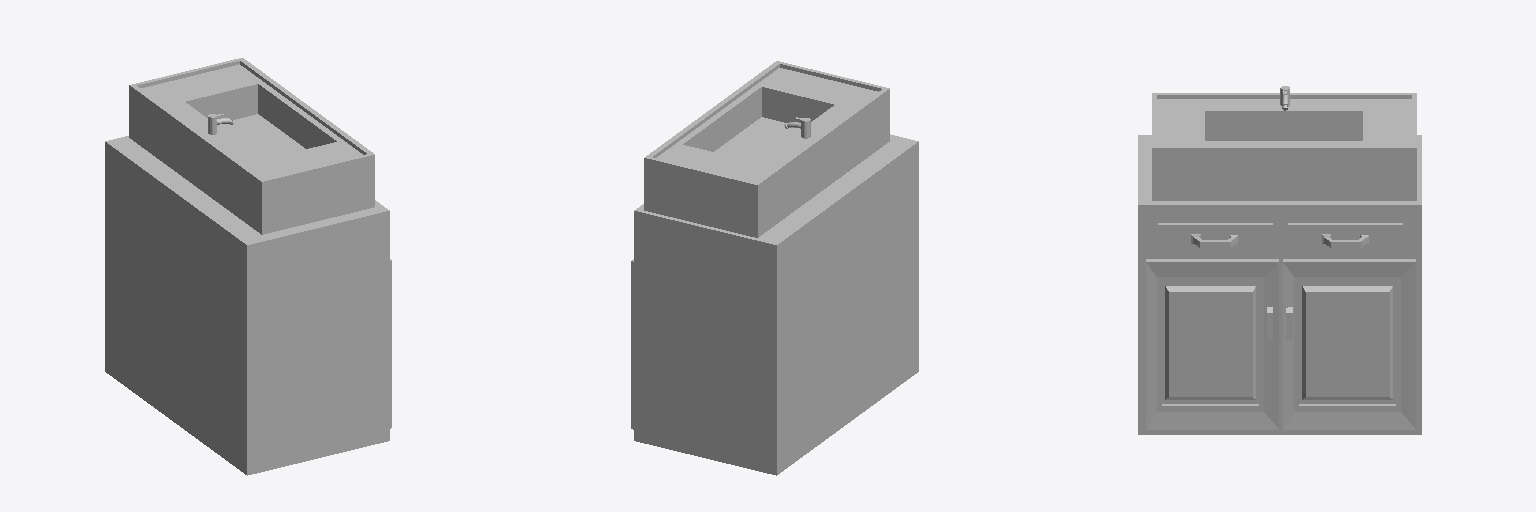
The model's file is Pia_da_cozinha.obj.
The picture shows the model from 3 angles: view 1: azimuth 30°, elevation 25°; view 2: azimuth 150°, elevation 25°; view 3: azimuth 270°, elevation 25°; orthographic projection.
Visible parts, largest first — view 1: group90; view 2: group90; view 3: group90.
Part boxes in pixels (x1,y1,x2,y2): group90: (105,58,391,475); group90: (631,61,918,475); group90: (1138,86,1421,434).
Size of the model in its own units: 1.24 by 2.2 by 1.91.